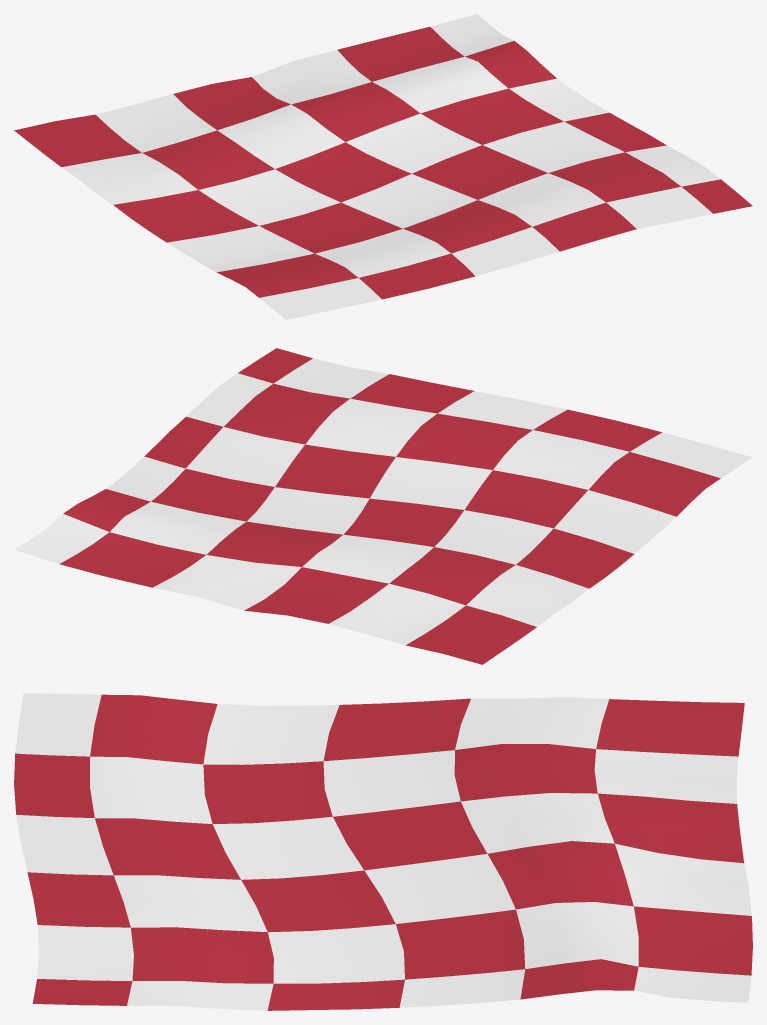
The model's file is mantel.fbx.
3 renders of one model, top to bottom at view 1: azimuth 30°, elevation 25°; view 2: azimuth 150°, elevation 25°; view 3: azimuth 270°, elevation 25°, orthographic. The views are drawn at different scales.
Parts seen in each view (by area): view 1: mantel; view 2: mantel; view 3: mantel.
Part boxes in pixels (x1,y1,x2,y2): mantel: (14, 14, 752, 319); mantel: (14, 348, 752, 664); mantel: (14, 693, 752, 1010).
Bounding box in the file's own units: 546 × 13.43 × 546.
